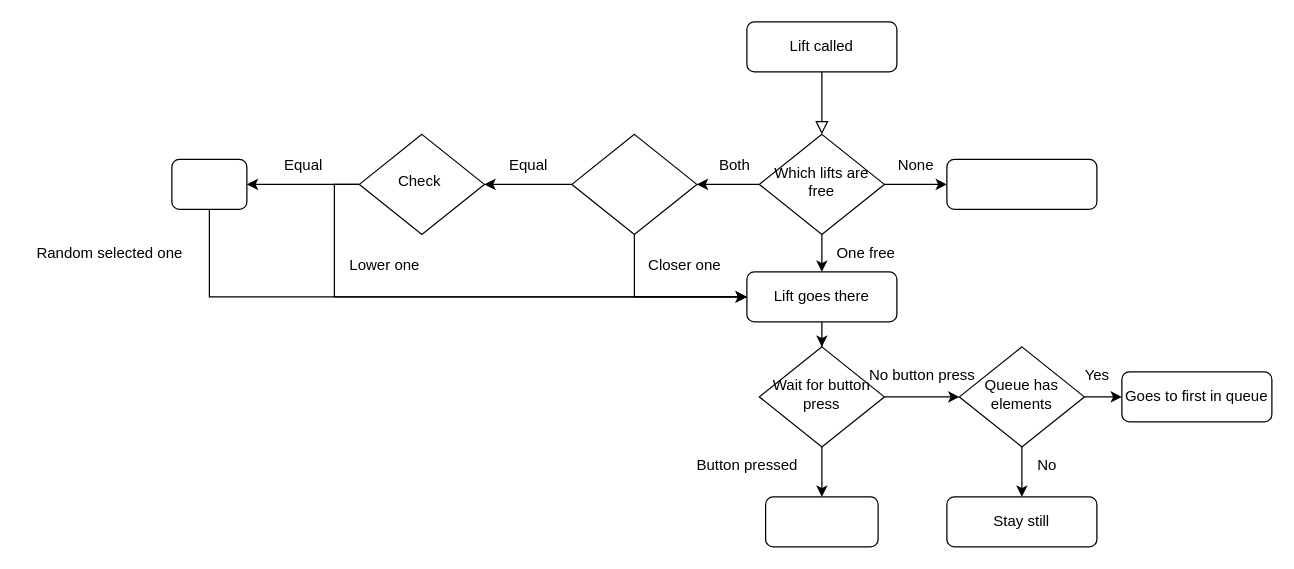
This 1294x569 diagram has some shape labels left out. Each missing label, with the centre of its shape:
"Add request to queue" goes at (1021,183).
"Goes to selected floor" goes at (821,521).
"Random select" goes at (209,183).
"Which one is closer" goes at (634,183).
